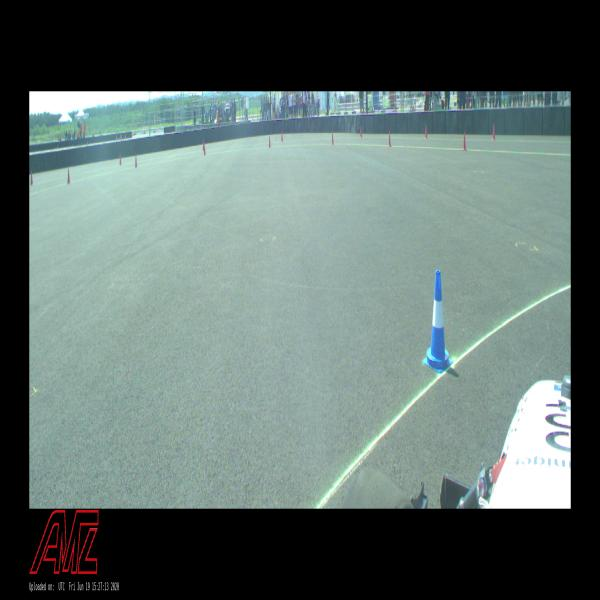blue_cone: (423, 270, 453, 372)
unknown_cone: (67, 168, 71, 184), (463, 132, 466, 150), (388, 131, 391, 147), (493, 124, 496, 140), (119, 154, 122, 165), (332, 131, 334, 145), (425, 125, 427, 139), (31, 171, 33, 184), (135, 154, 137, 167), (268, 136, 270, 148), (204, 144, 206, 155), (281, 131, 283, 142), (360, 126, 362, 137), (203, 140, 204, 152)
